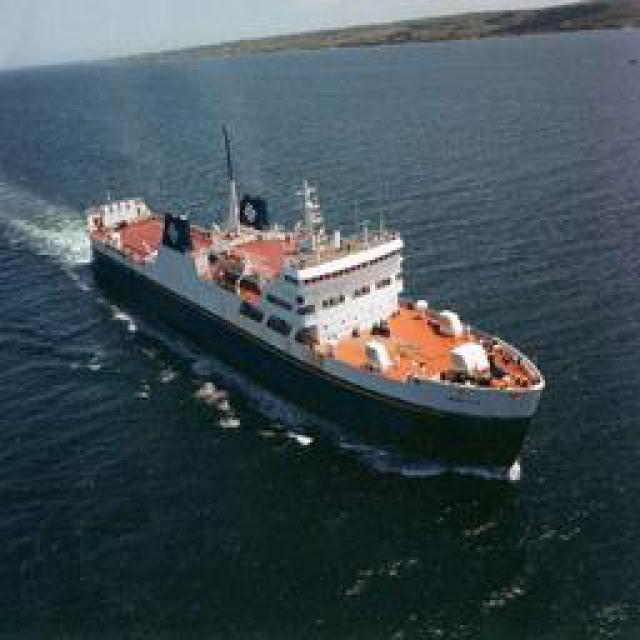Ship: (87, 145, 547, 448)
